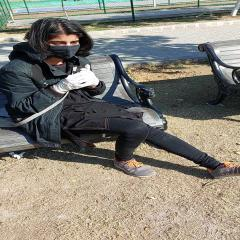gloved: (50, 74, 96, 91), (80, 63, 99, 87)
